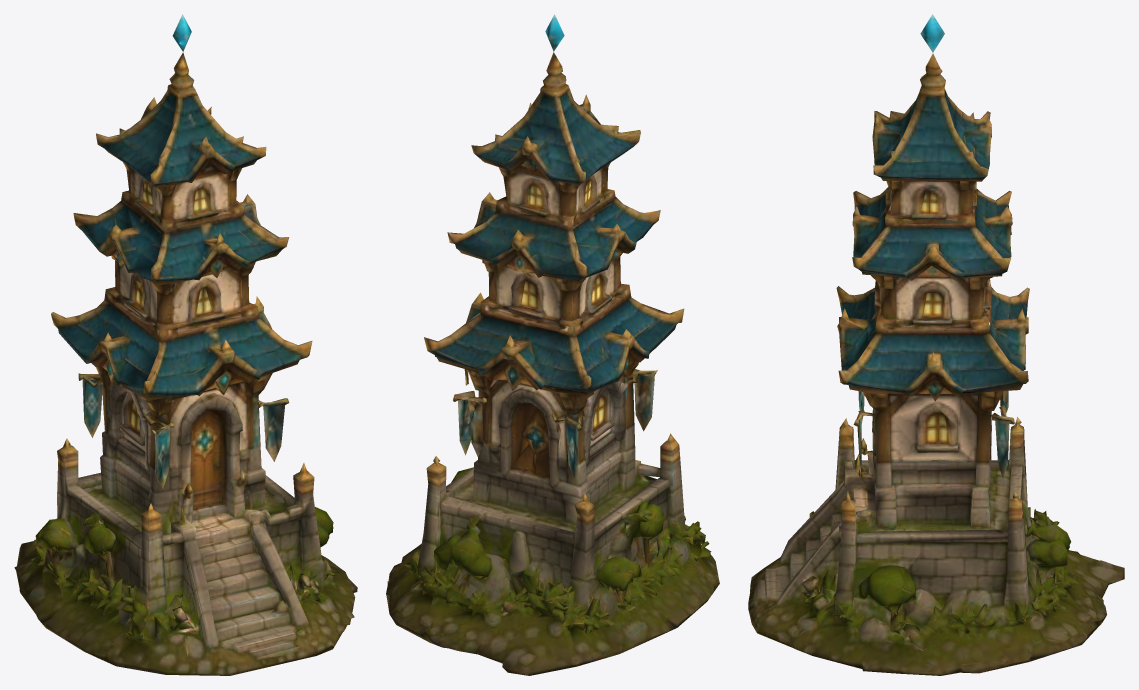
Rendered from pagoda-portfolio.glb.
The picture shows the model from 3 angles, left to right: view 1: azimuth 30°, elevation 25°; view 2: azimuth 150°, elevation 25°; view 3: azimuth 270°, elevation 25°; orthographic projection.
Parts seen in each view (by area): view 1: Mesh1.0; view 2: Mesh1.0; view 3: Mesh1.0.
Part boxes in pixels (box(x1,y1,x2,y2)): Mesh1.0: box(14, 14, 357, 675); Mesh1.0: box(386, 14, 719, 675); Mesh1.0: box(748, 14, 1124, 675).
Bounding box in the file's own units: 0.9525 × 1.9 × 1.1.
1 material, 1 textured.
